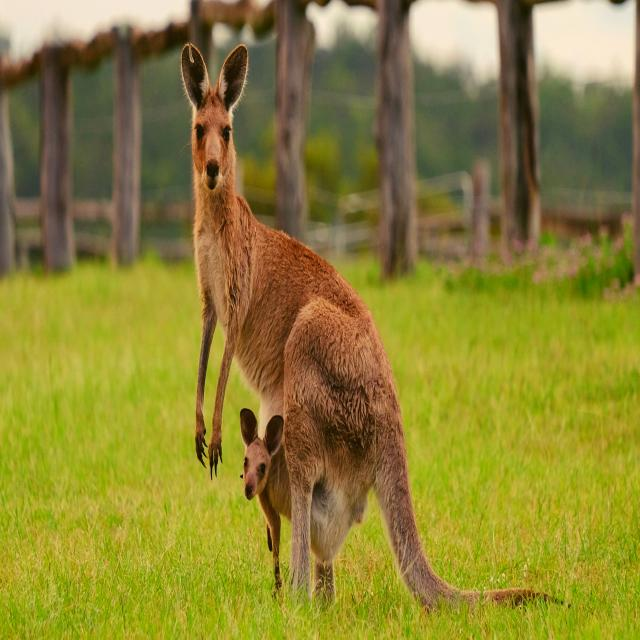kangaroo: (181, 44, 482, 607)
